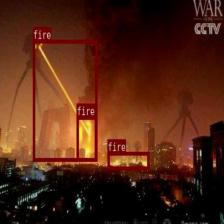fire: (32, 40, 97, 160), (76, 116, 97, 160), (107, 152, 149, 169)
